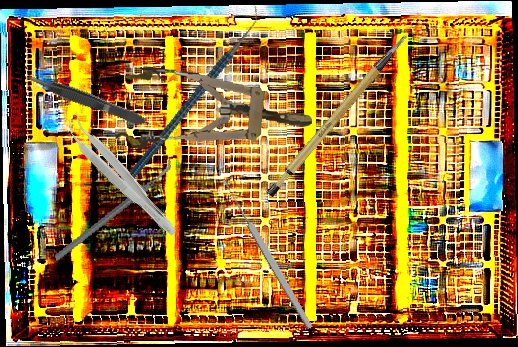Chopper: (89, 3, 299, 178), (37, 156, 190, 263)
Scalpel Handle: (247, 32, 432, 201)
Speculum: (113, 64, 316, 164)
Surgical Spoon: (220, 177, 315, 331)
Tissue Forceps: (58, 110, 186, 241), (22, 68, 148, 131)
